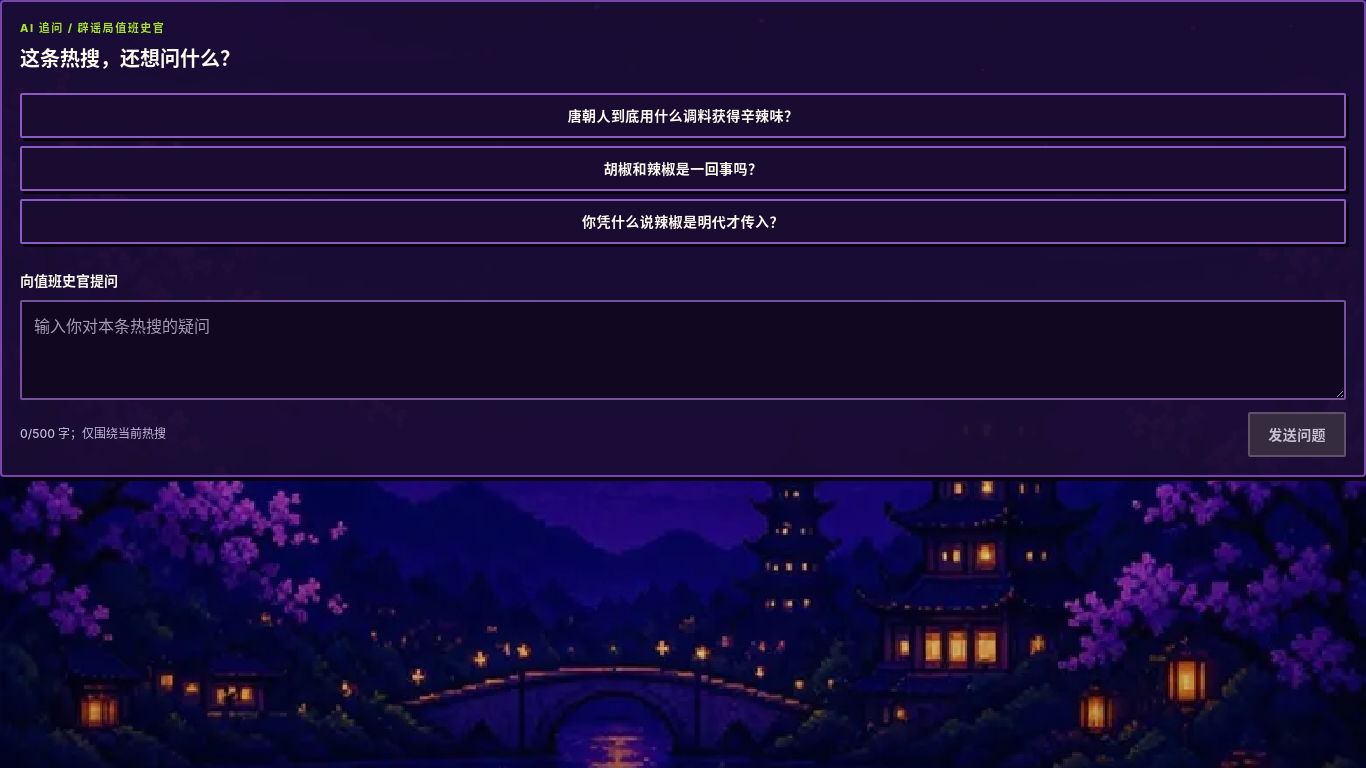
Test: AskPanel › 预设按钮直接向 /api/ask 发起真实组件请求：唐朝人到底用什么调料获得辛辣味？
The image size is (1366, 768).
Click the button "唐朝人到底用什么调料获得辛辣味？".
click(683, 115)  # box [20,92,1346,138]
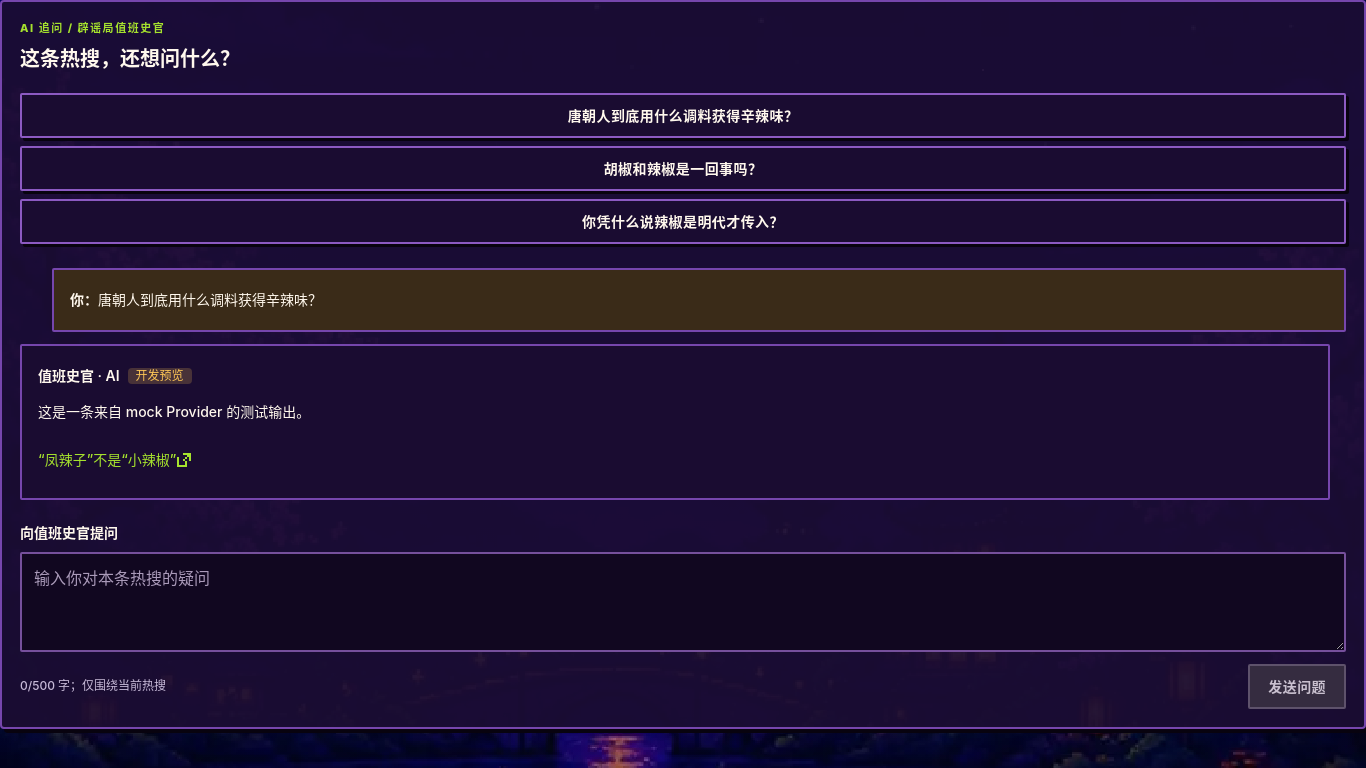
Result: the text "这是一条来自 mock Provider 的测试输出。" is shown at [38,402,310,420]
